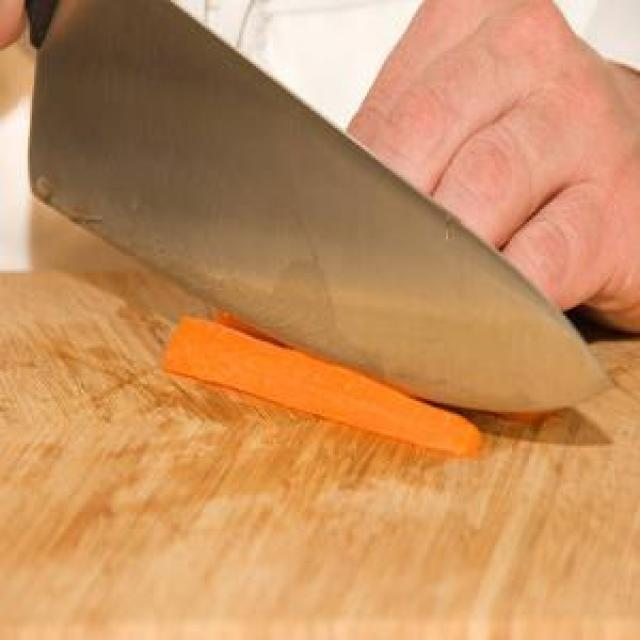knife: (25, 2, 618, 441)
